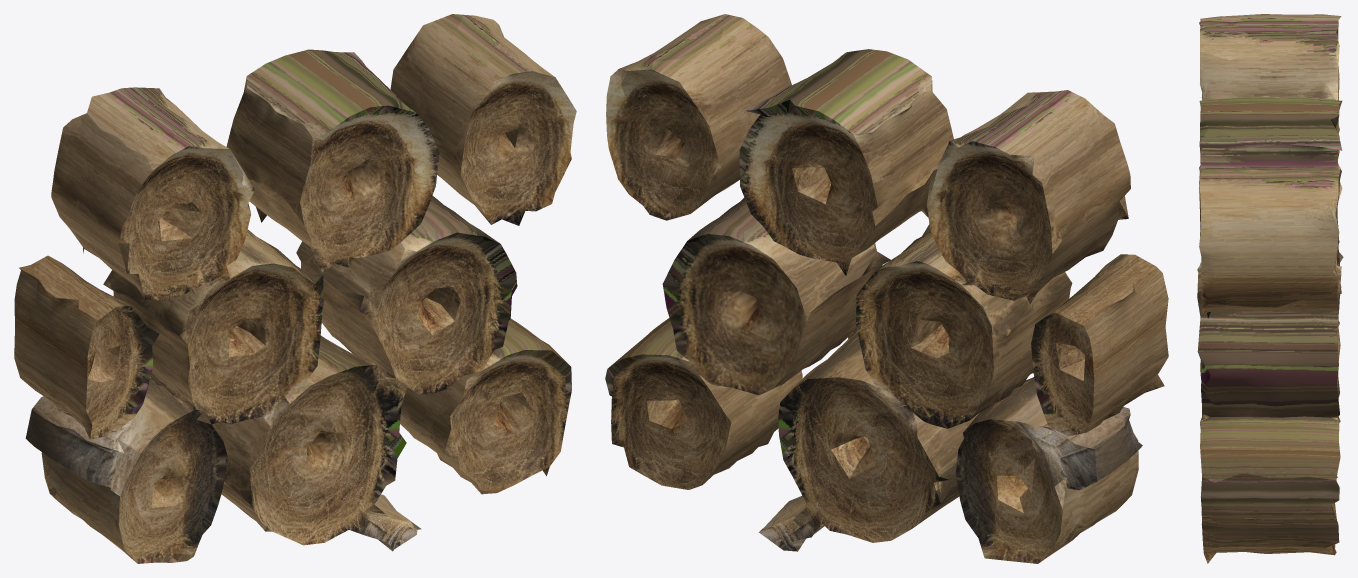
The model's file is hay.glb.
3 views of the same model, side by side, from view 1: azimuth 30°, elevation 25°; view 2: azimuth 150°, elevation 25°; view 3: azimuth 270°, elevation 25° (orthographic). The views are drawn at different scales.
Visible parts, largest first — view 1: geometry_0; view 2: geometry_0; view 3: geometry_0.
Boxes of the visible parts, x1,y1,x2,y2 form: geometry_0: [14, 14, 576, 563]; geometry_0: [605, 14, 1168, 563]; geometry_0: [1197, 14, 1343, 563].
Size of the model in its own units: 1.44 by 1.3 by 0.4108.
Materials: 1 (1 with a texture image).
